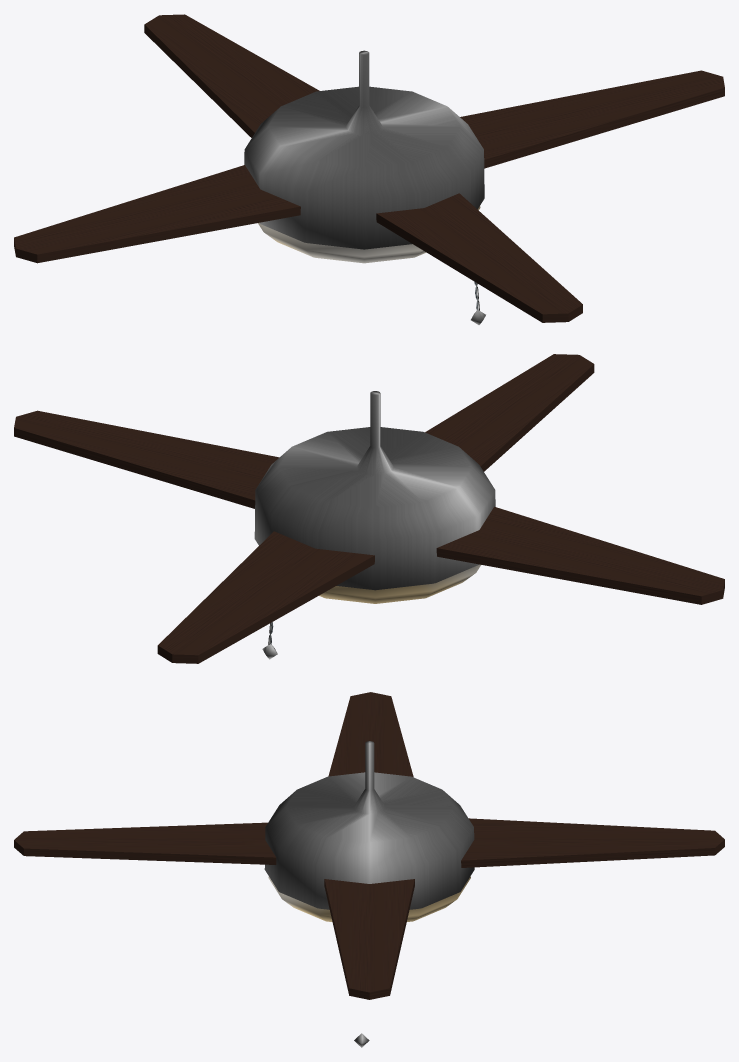
The model's file is Ceiling_Fan_B.FBX.
3 renders of one model, top to bottom at view 1: azimuth 30°, elevation 25°; view 2: azimuth 150°, elevation 25°; view 3: azimuth 270°, elevation 25°, orthographic. The views are drawn at different scales.
Parts seen in each view (by area): view 1: Fan_Blades, Ceiling_Fan; view 2: Fan_Blades, Ceiling_Fan; view 3: Fan_Blades, Ceiling_Fan.
Part boxes in pixels (x1,y1,x2,y2): Fan_Blades: [14, 14, 724, 322]; Ceiling_Fan: [244, 50, 485, 324]; Fan_Blades: [14, 354, 724, 663]; Ceiling_Fan: [254, 391, 495, 659]; Fan_Blades: [14, 692, 724, 999]; Ceiling_Fan: [264, 741, 474, 1047].
Bounding box in the file's own units: 409 × 164 × 409.
